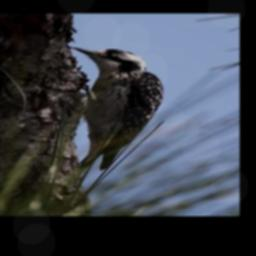Woodpecker: (61, 40, 173, 176)
